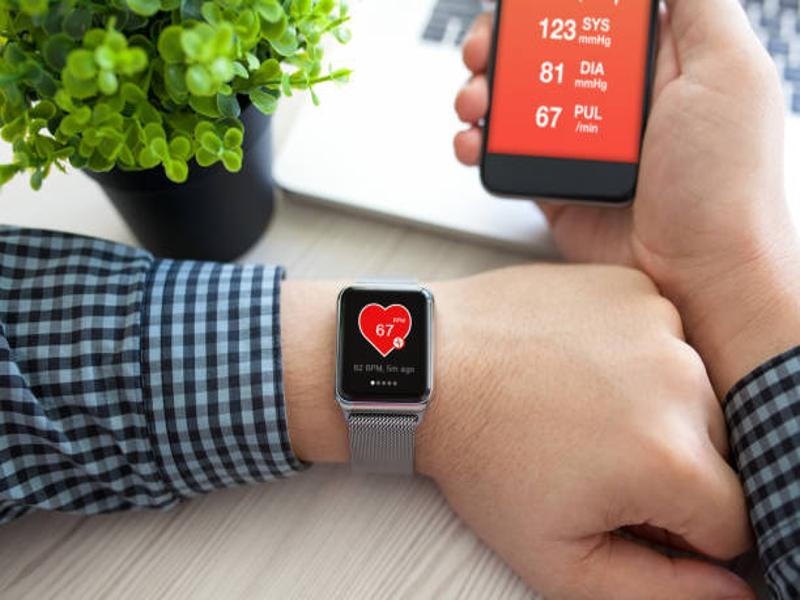watch: (334, 277, 435, 477)
